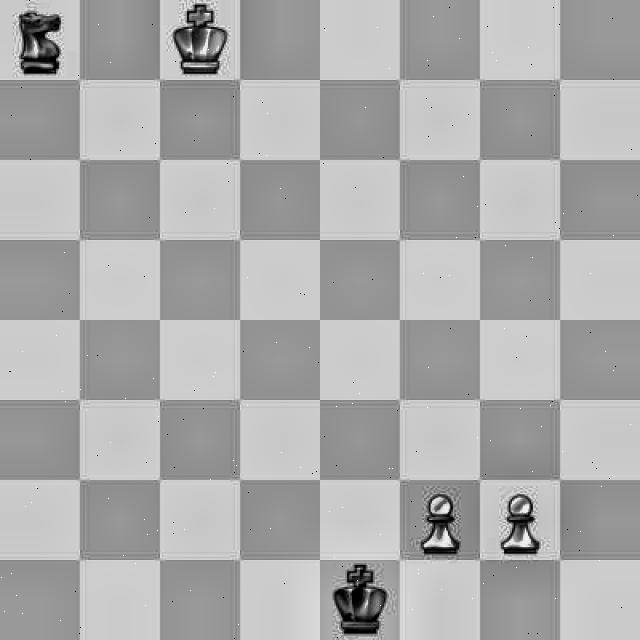Black Knight: (6, 0, 74, 78)
black king: (321, 561, 400, 640)
white king: (168, 5, 236, 80)
white pawn: (406, 491, 476, 560), (494, 488, 548, 560)
